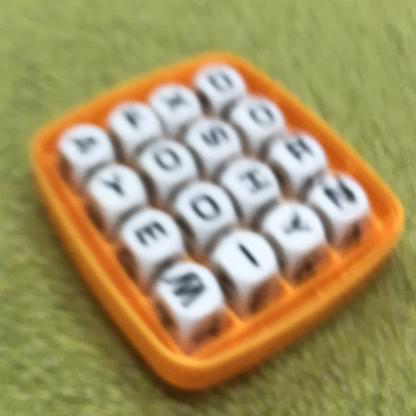a: (66, 124, 103, 159)
e: (128, 213, 173, 259), (156, 81, 194, 121)
f: (114, 102, 156, 134)
h: (235, 158, 277, 206)
i: (230, 238, 268, 285)
n: (320, 171, 360, 216)
o: (184, 186, 228, 229), (146, 139, 188, 180), (241, 97, 282, 133), (195, 69, 244, 99)
r: (285, 134, 320, 171)
s: (192, 119, 238, 153)
w: (161, 266, 211, 321)
y: (274, 202, 318, 249), (93, 167, 139, 208)
